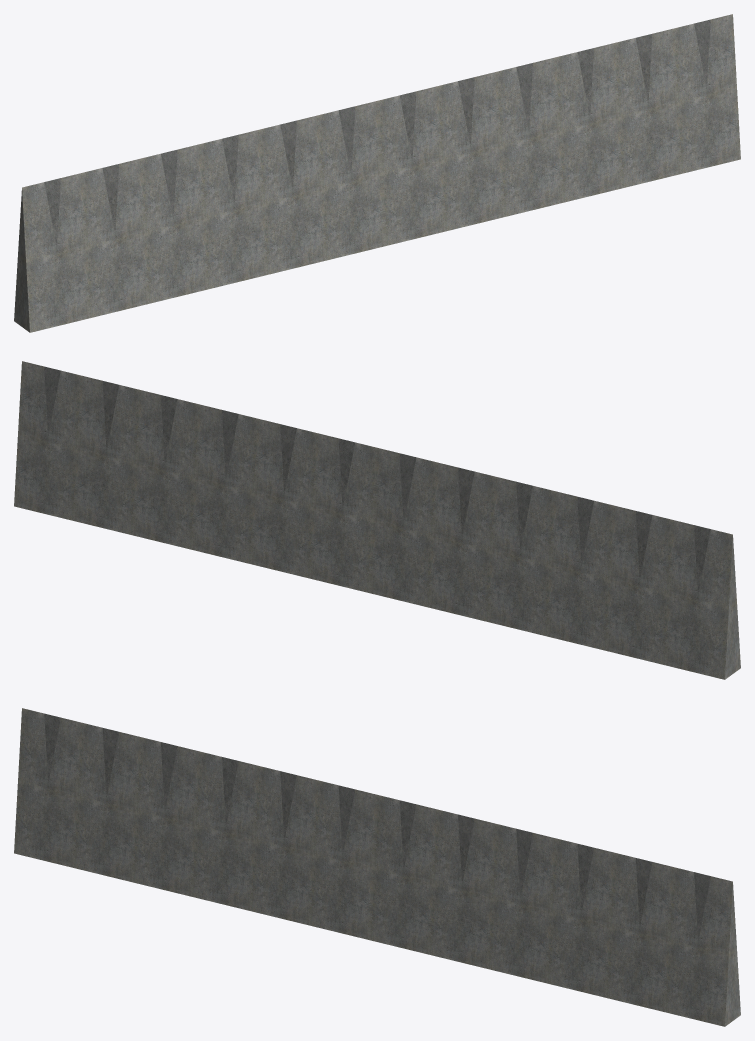
Rendered from mun_all_military_wall_weak_impl_32_s01_l2.fbx.
The picture shows the model from 3 angles, top to bottom: view 1: azimuth 30°, elevation 25°; view 2: azimuth 150°, elevation 25°; view 3: azimuth 330°, elevation 25°; orthographic projection.
Visible parts, largest first — view 1: mesh_node; view 2: mesh_node; view 3: mesh_node.
Part boxes in pixels (left/top/right/bottom): mesh_node: left=14, top=14, right=740, bottom=332; mesh_node: left=14, top=361, right=740, bottom=679; mesh_node: left=14, top=708, right=740, bottom=1026.
Bounding box in the file's own units: 32 × 6 × 1.25.
